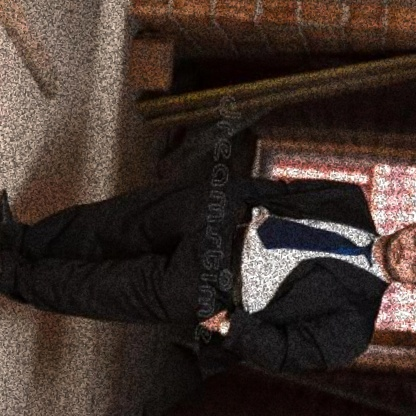blue: (413, 207, 416, 313)
